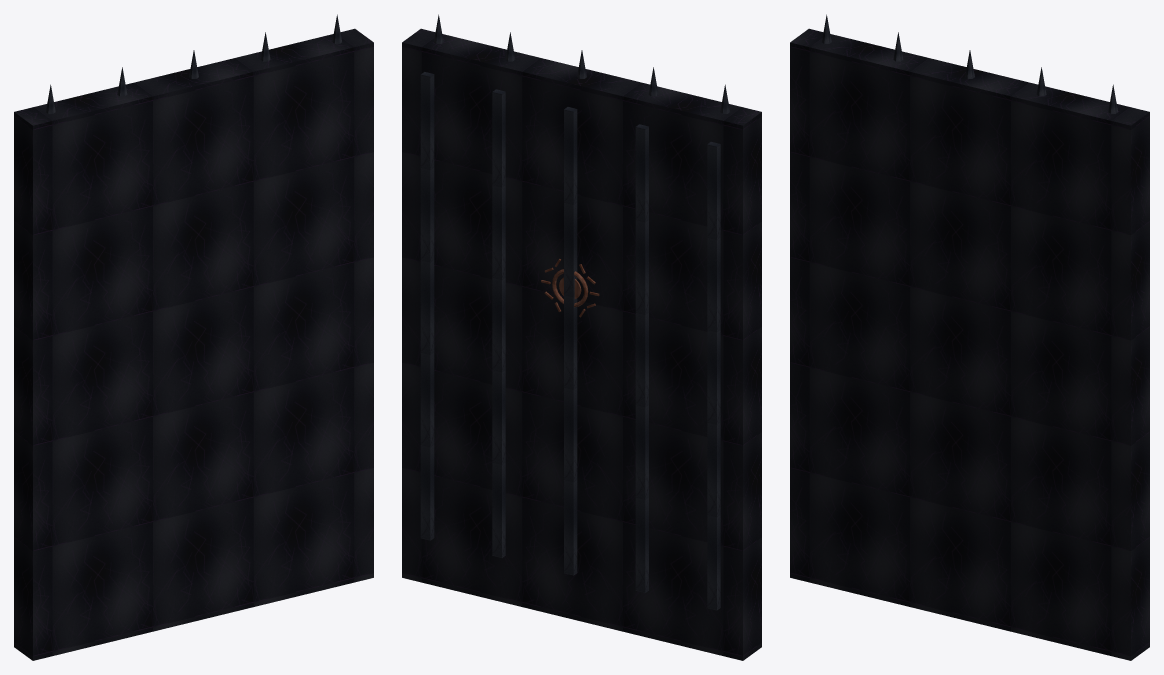
The model's file is blackstone-cathedral-wall.glb.
3 views of the same model, side by side, from view 1: azimuth 30°, elevation 25°; view 2: azimuth 150°, elevation 25°; view 3: azimuth 330°, elevation 25° (orthographic).
Parts seen in each view (by area): view 1: CathedralWall_Wall; view 2: CathedralWall_Wall, CathedralWall_Rib_5, CathedralWall_Rib_1, CathedralWall_Rib_2, CathedralWall_Rib_4, CathedralWall_Rib_3; view 3: CathedralWall_Wall.
Part boxes in pixels (x1,y1,x2,y2): CathedralWall_Wall: [14, 28, 373, 660]; CathedralWall_Wall: [402, 28, 761, 660]; CathedralWall_Rib_5: [420, 72, 434, 540]; CathedralWall_Rib_1: [707, 141, 720, 610]; CathedralWall_Rib_2: [635, 124, 648, 592]; CathedralWall_Rib_4: [492, 89, 505, 557]; CathedralWall_Rib_3: [564, 107, 577, 575]; CathedralWall_Wall: [790, 28, 1149, 660].
Bounding box in the file's own units: 12 × 18.95 × 1.38.
3 materials, 3 textured.
